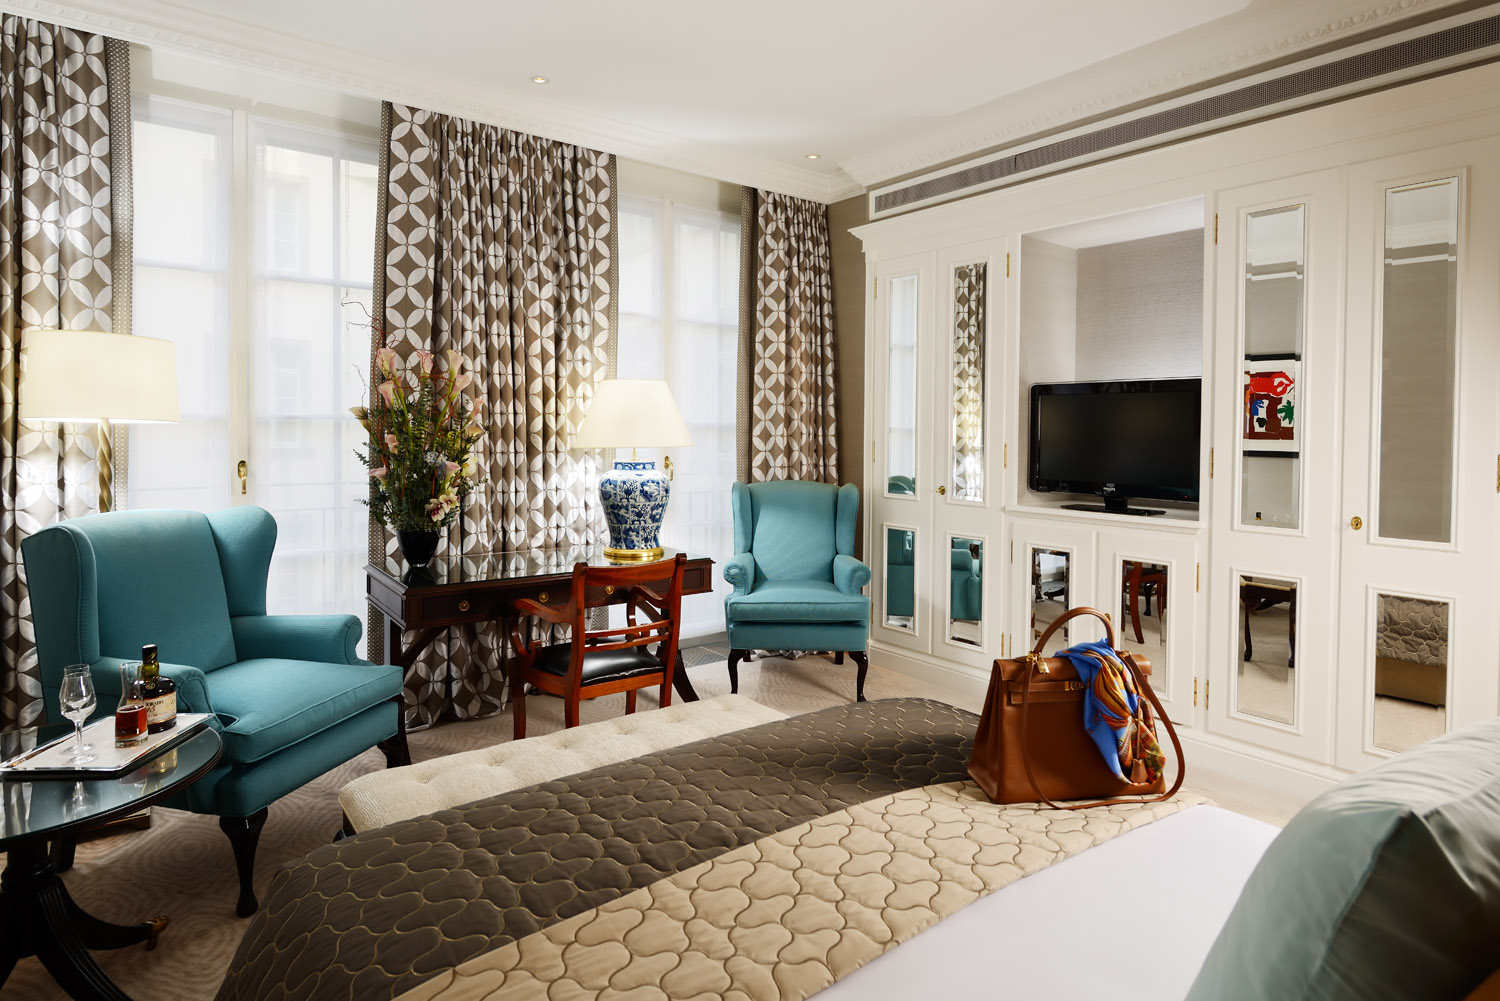chair: (32, 511, 407, 907), (719, 479, 873, 700), (512, 561, 699, 709), (41, 88, 105, 153)
